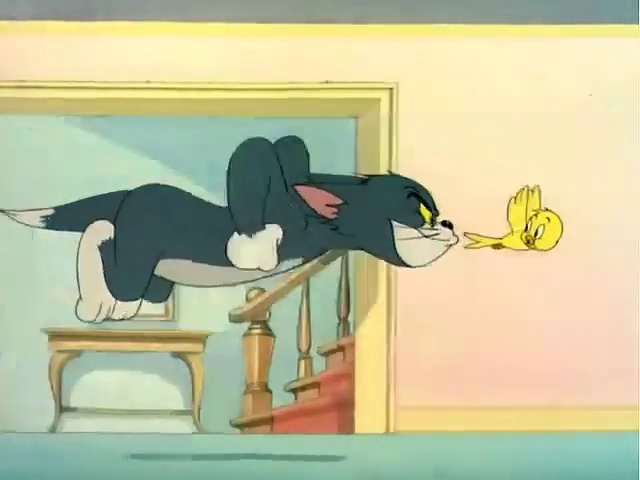tom: (1, 125, 466, 383)
